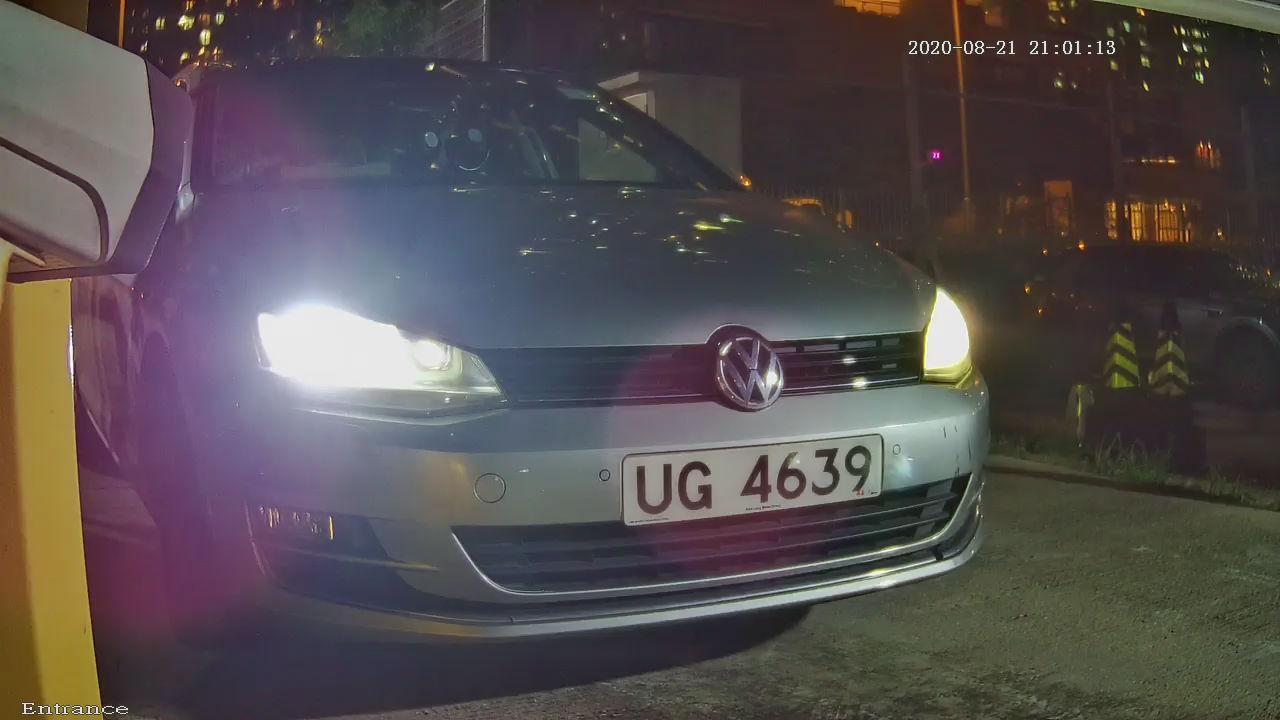Car: (23, 10, 1115, 714)
License Plate: (581, 417, 919, 571)
